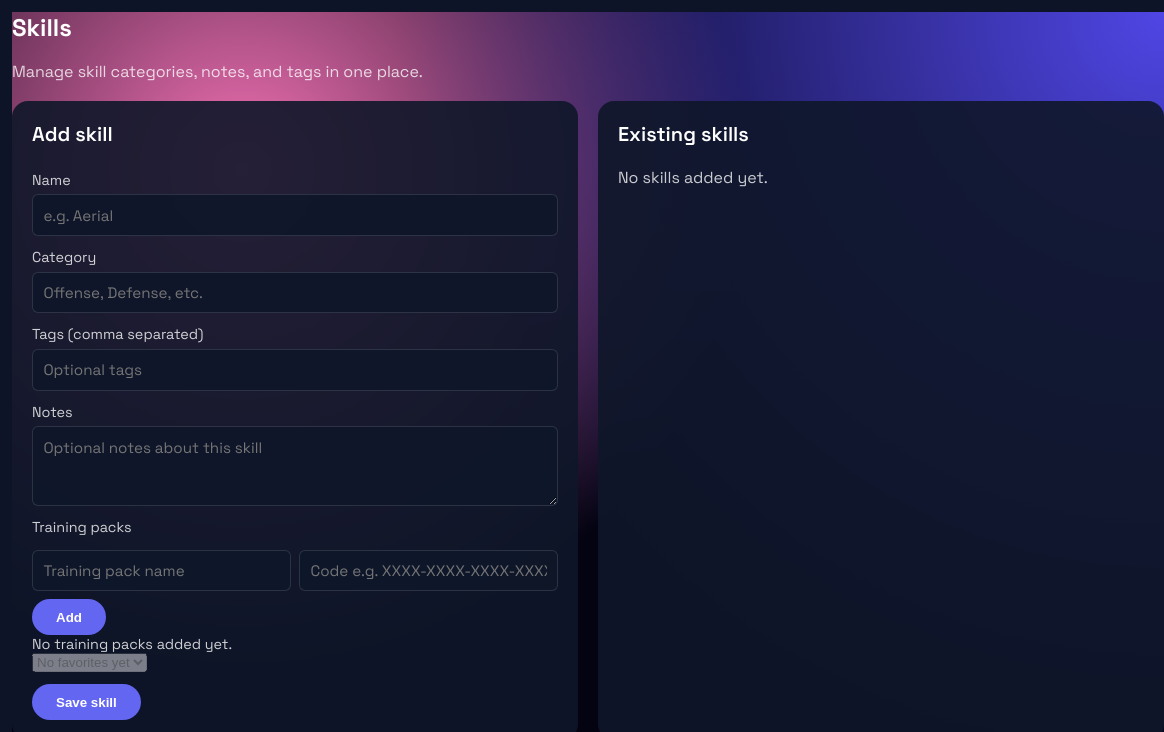
SkillsScreen training packs › validates training pack code format inline
Expected: the field labelled "Name" is shown, x1=32 y1=194 x2=558 y2=236
Step 1. Type "Invalid Pack" into the field named "New training pack name" → (162, 571), box x1=32 y1=550 x2=291 y2=592
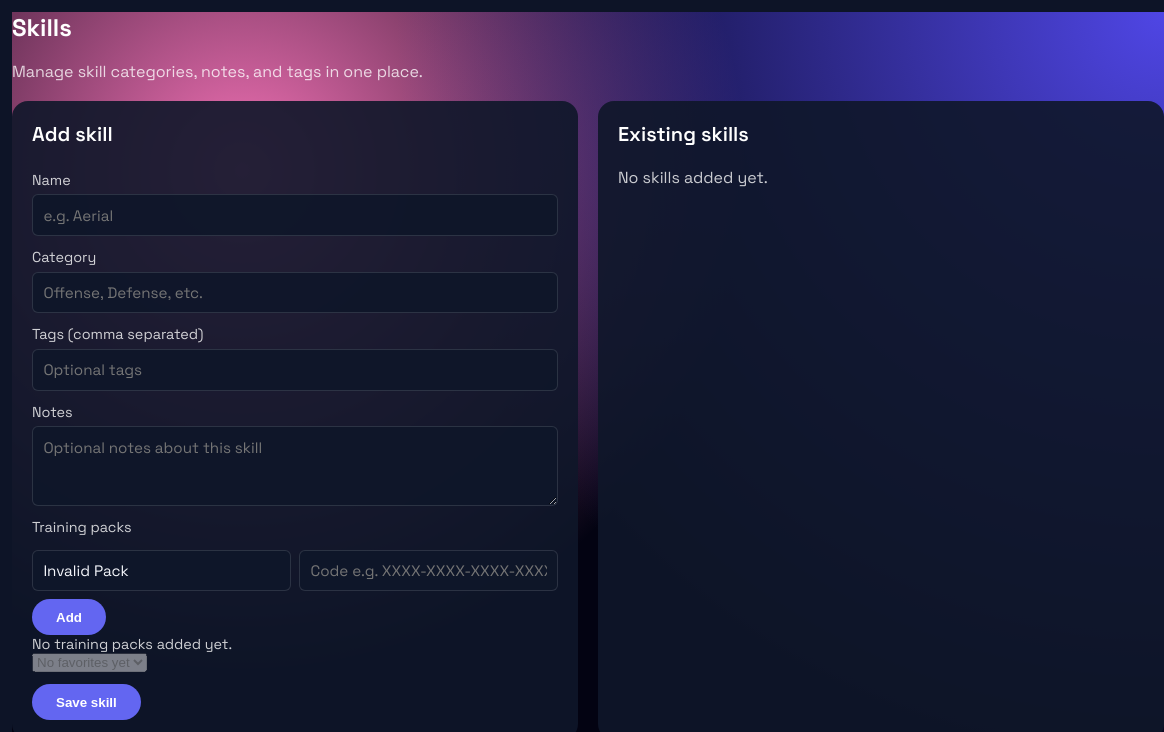
Step 2. Type "1234-ABCD" into the field named "New training pack code" → (428, 571), box x1=299 y1=550 x2=558 y2=592
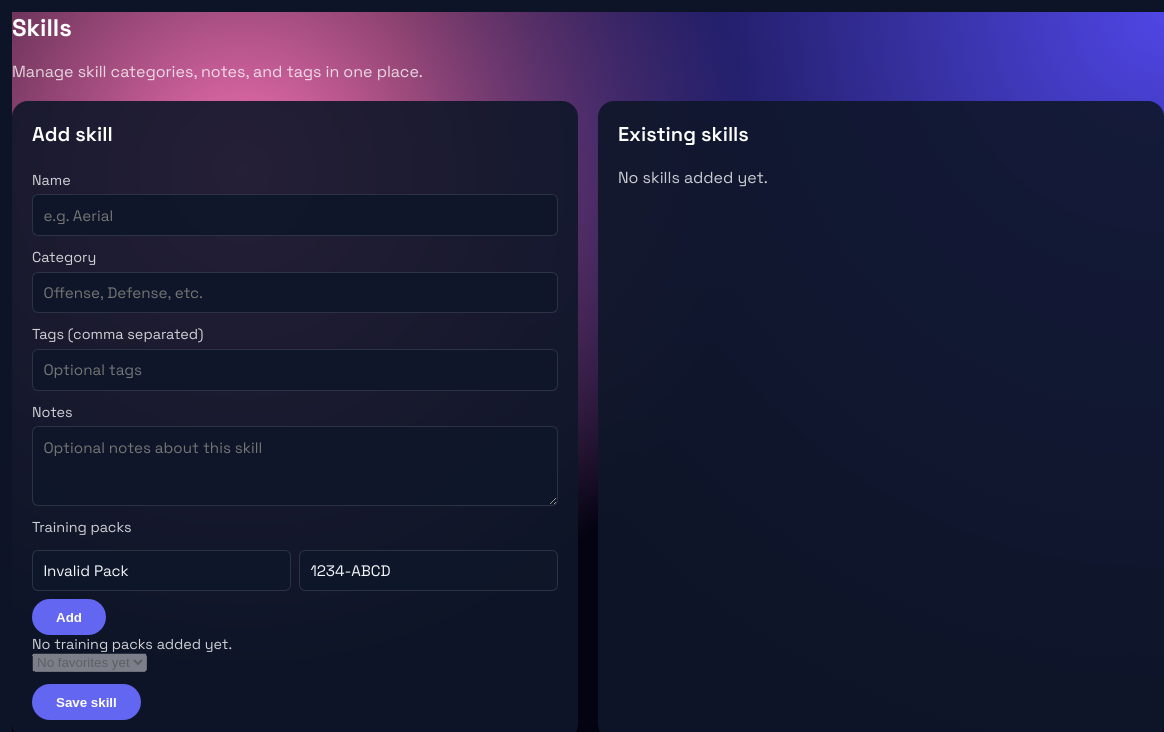
Step 3. Click the button with test id "add-pack-button" → (69, 617), box x1=32 y1=600 x2=106 y2=635
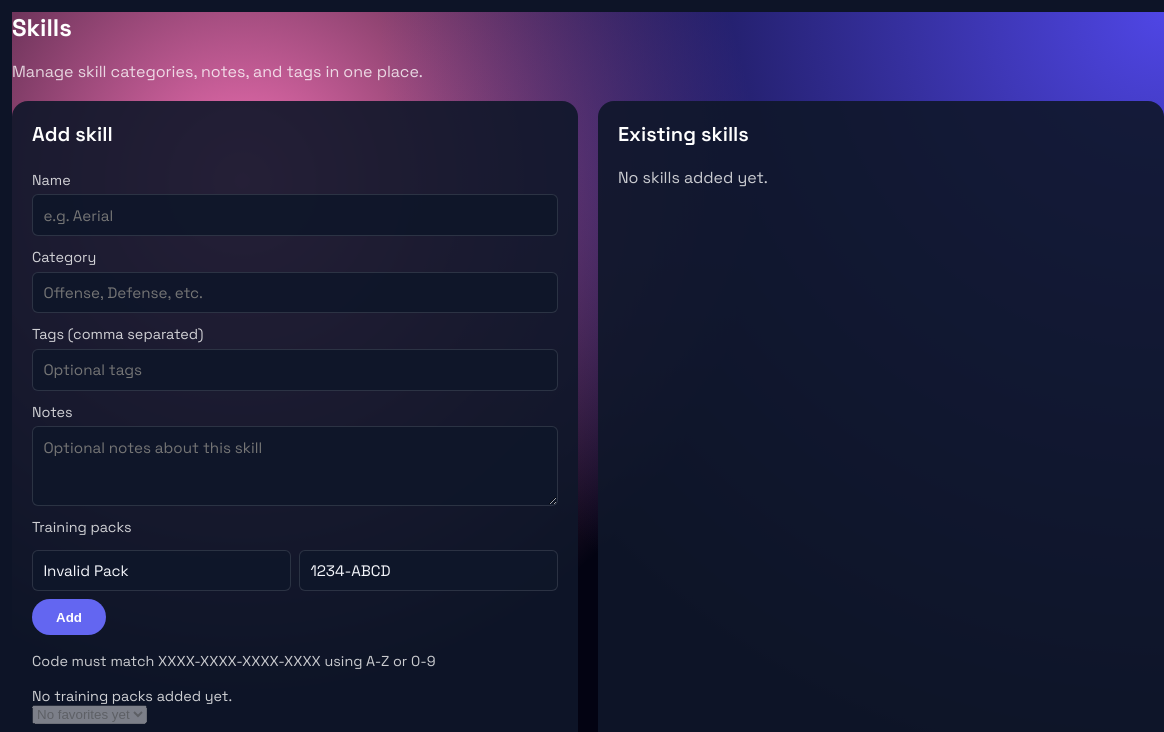
Result: the text "Code must match XXXX-XXXX-XXXX-XXXX using A-Z or 0-9" is shown at x1=32 y1=652 x2=436 y2=670
